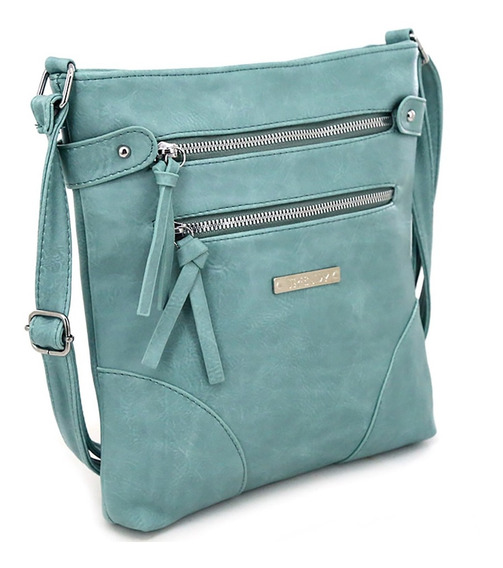cartera: (29, 28, 443, 537)
